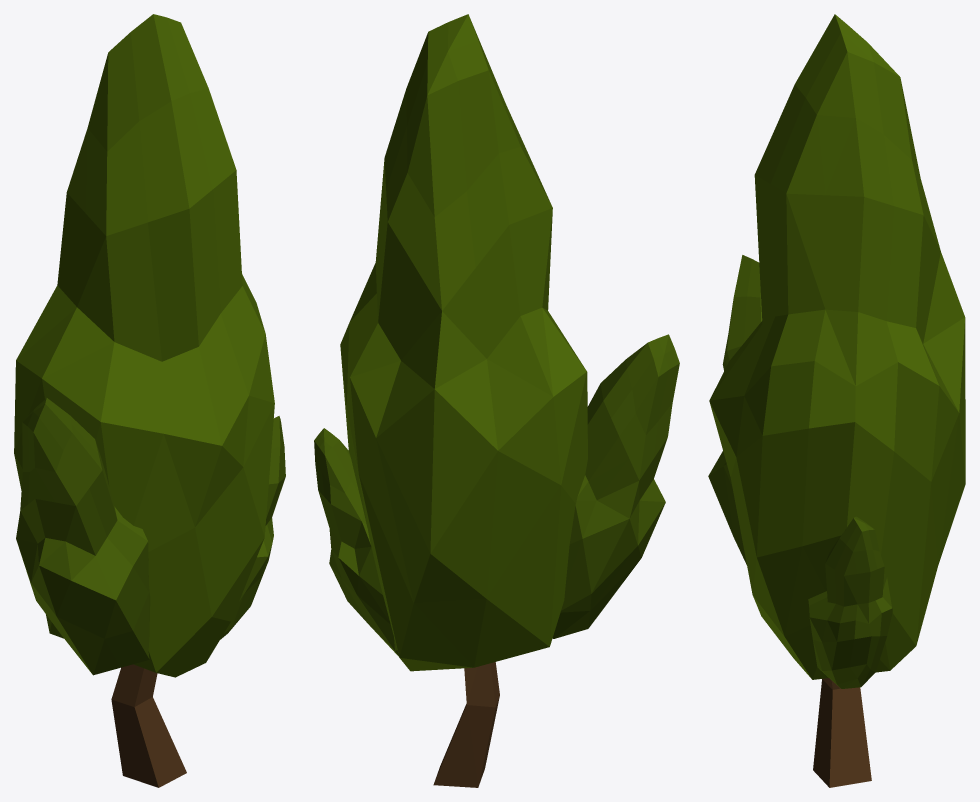
Rendered from tree_5_3.fbx.
The picture shows the model from 3 angles, left to right: view 1: azimuth 30°, elevation 25°; view 2: azimuth 150°, elevation 25°; view 3: azimuth 270°, elevation 25°; orthographic projection.
Visible parts, largest first — view 1: tree_5_3; view 2: tree_5_3; view 3: tree_5_3.
Boxes of the visible parts, x1,y1,x2,y2 form: tree_5_3: (14, 14, 285, 787); tree_5_3: (314, 14, 679, 787); tree_5_3: (708, 14, 965, 787).
Bounding box in the file's own units: 279 × 662 × 204.
